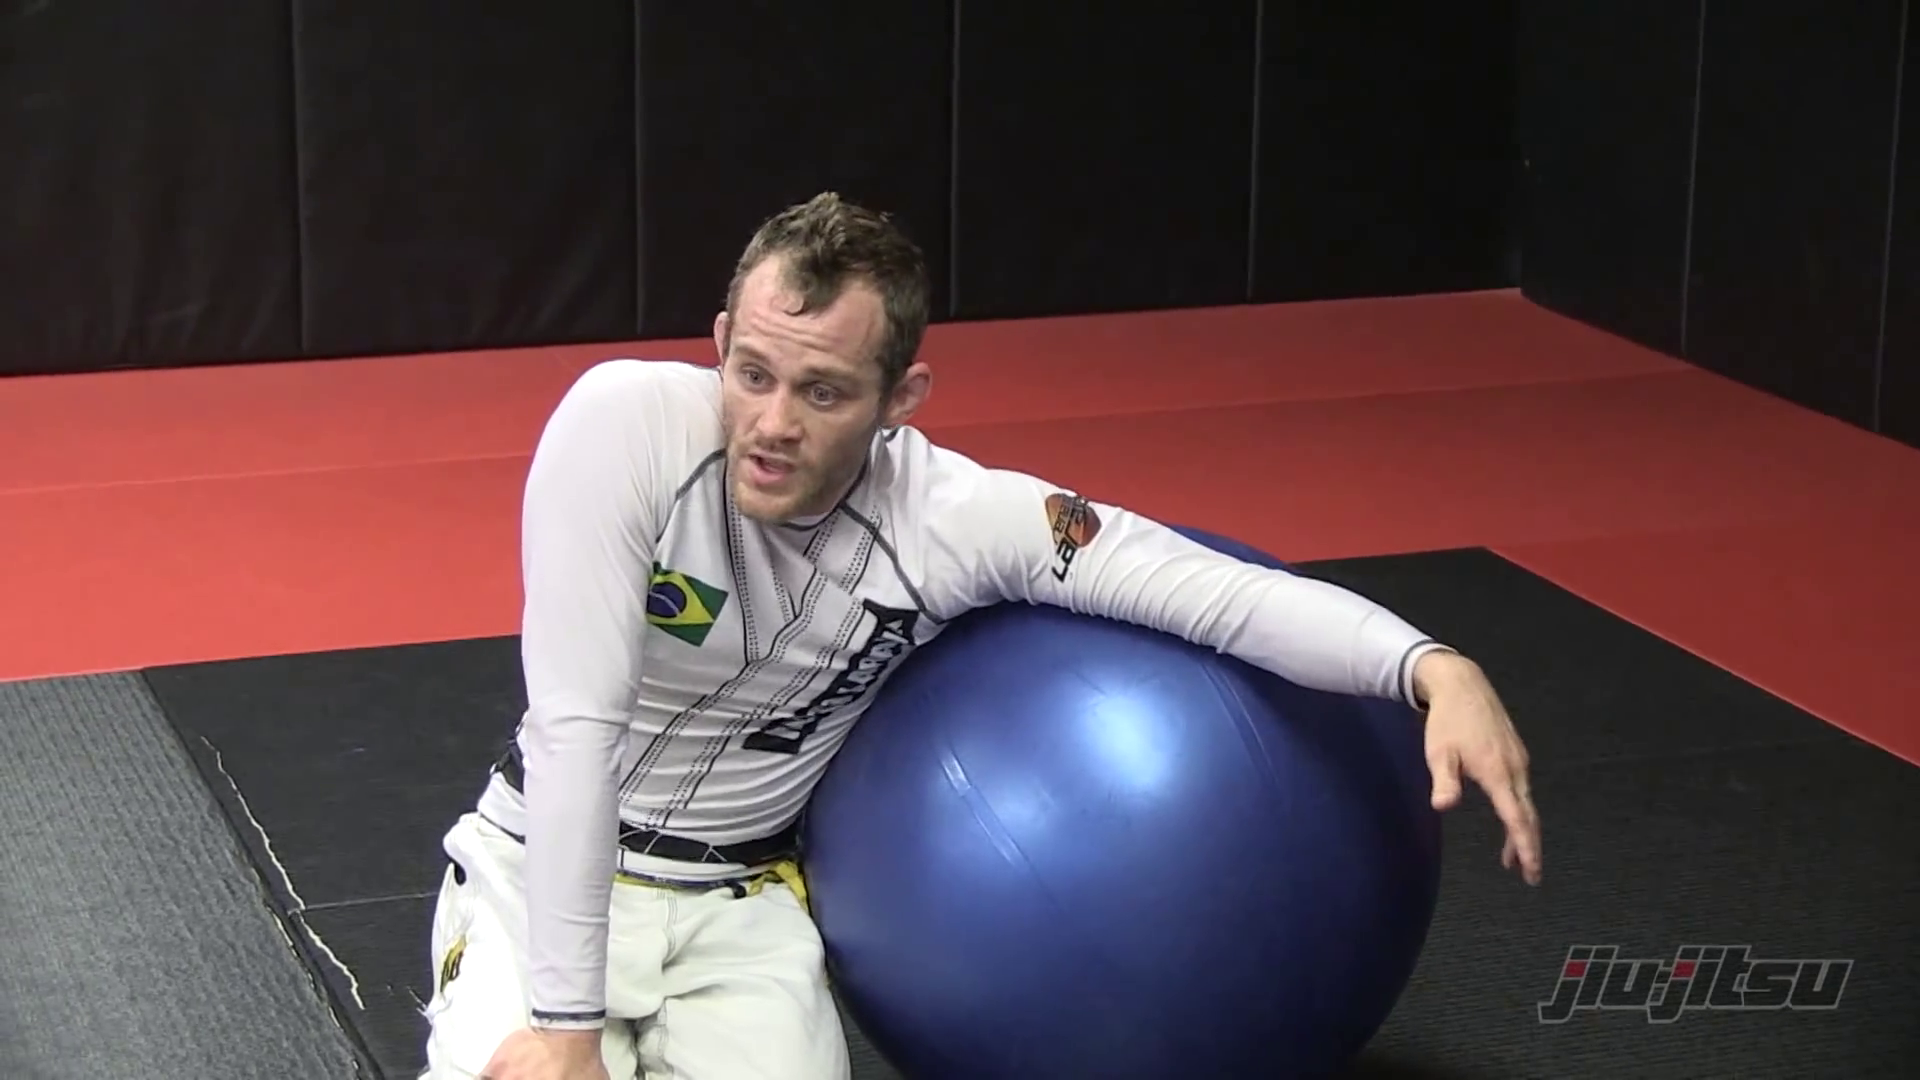yogaball: (789, 556, 1468, 1077)
